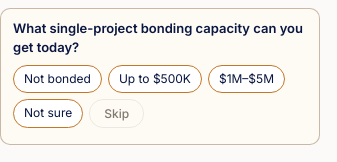
it: ProfileAskBlock › marks the ask done after a band is chosen
This screenshot has width=337, height=162.
Click the button "$1M–$5M": (246, 79) [208,65,285,93]
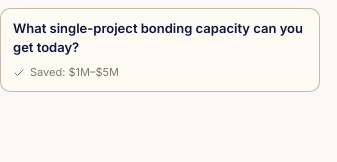
Expected: the text "Saved: $1M–$5M" is shown, [13,65,119,79]
